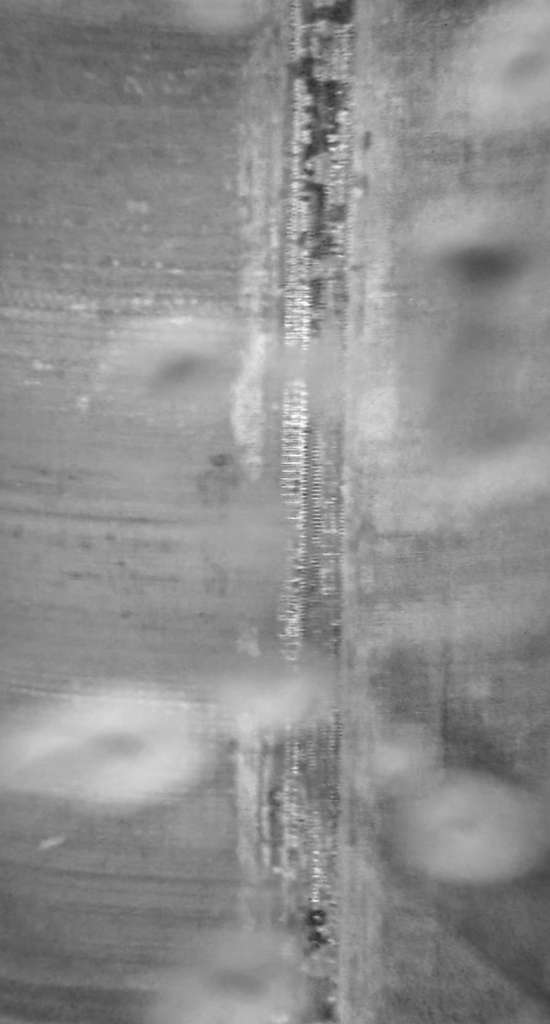splice: (266, 1, 371, 1024)
